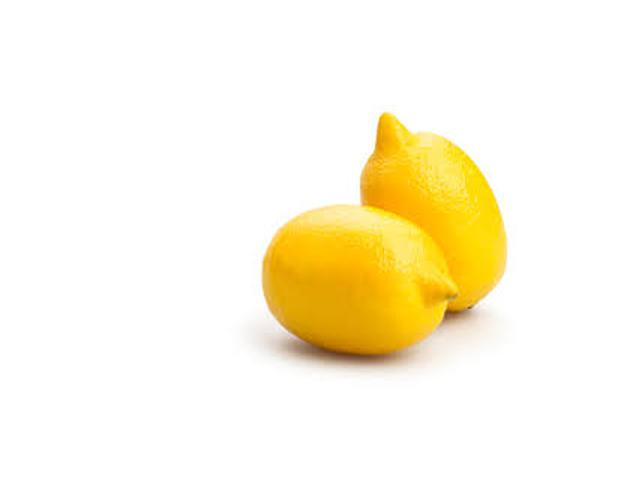lemon: (248, 201, 478, 337)
